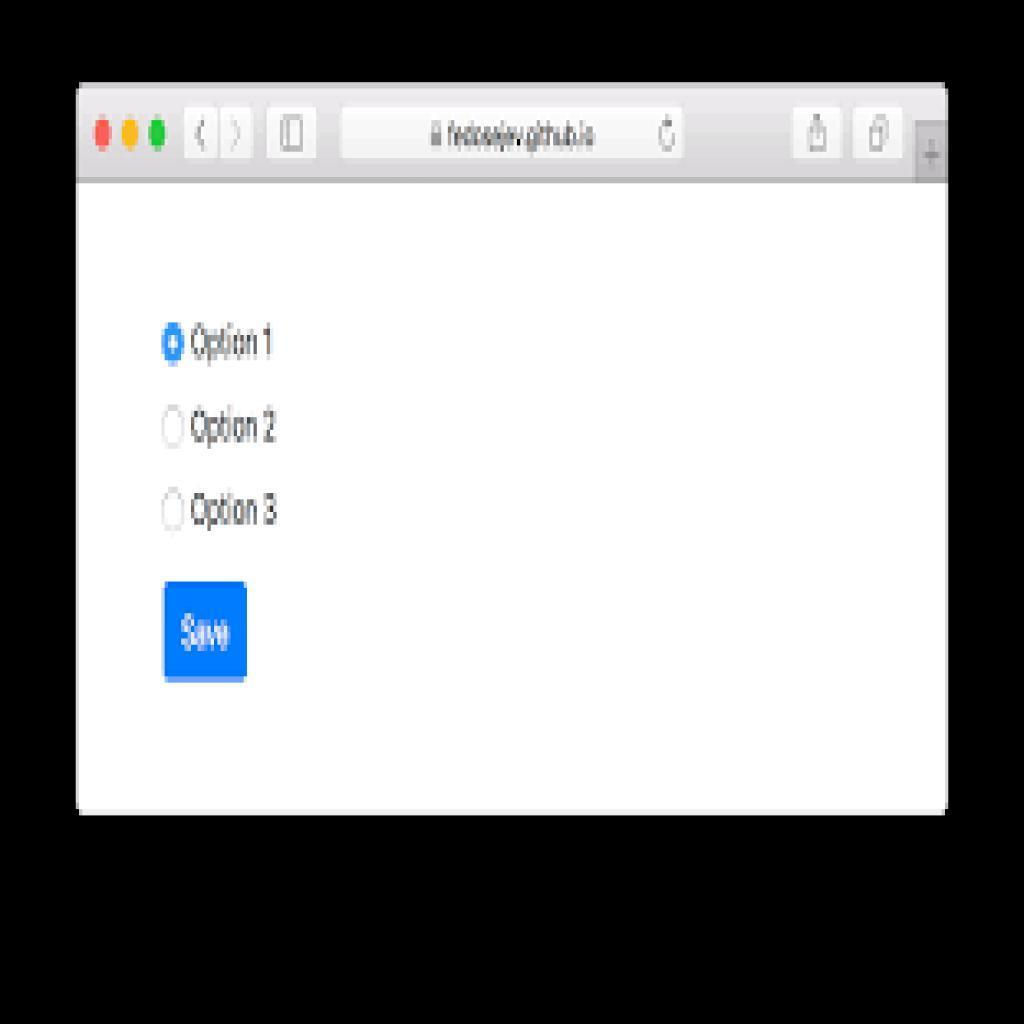label: (165, 581, 248, 684), (185, 482, 285, 540), (185, 401, 283, 455), (190, 318, 280, 368)
radio: (160, 322, 188, 369), (162, 487, 188, 535), (161, 405, 186, 451)
